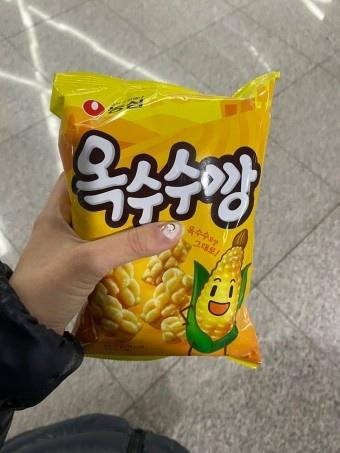snack: (51, 71, 276, 373)
